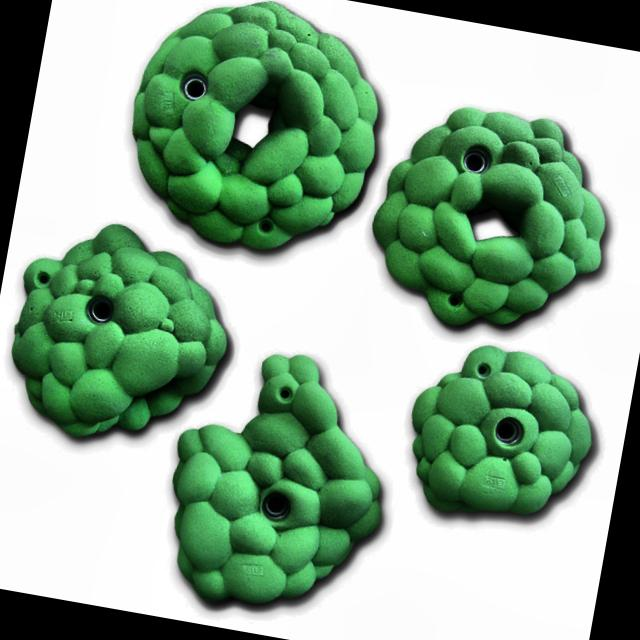Hold: (158, 330, 408, 628), (114, 0, 383, 264), (364, 88, 618, 338), (0, 210, 244, 462), (392, 329, 600, 528)
